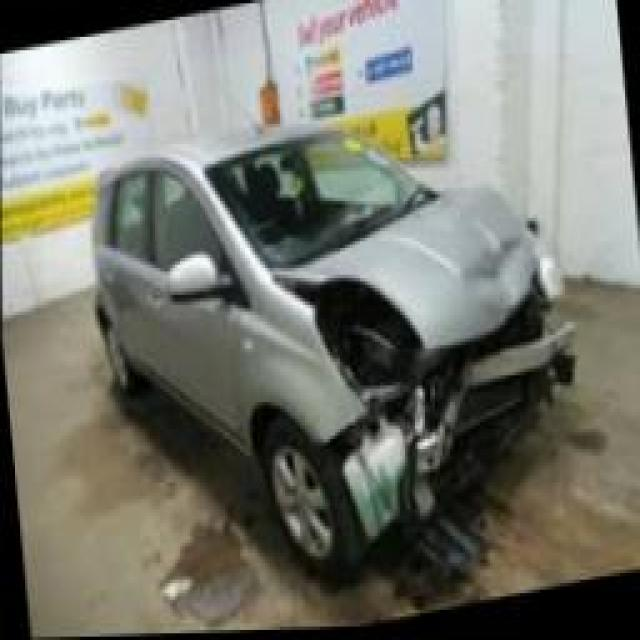Bonnet: (408, 201, 543, 339)
Bumper: (332, 328, 631, 535)
Light: (325, 292, 413, 412)
